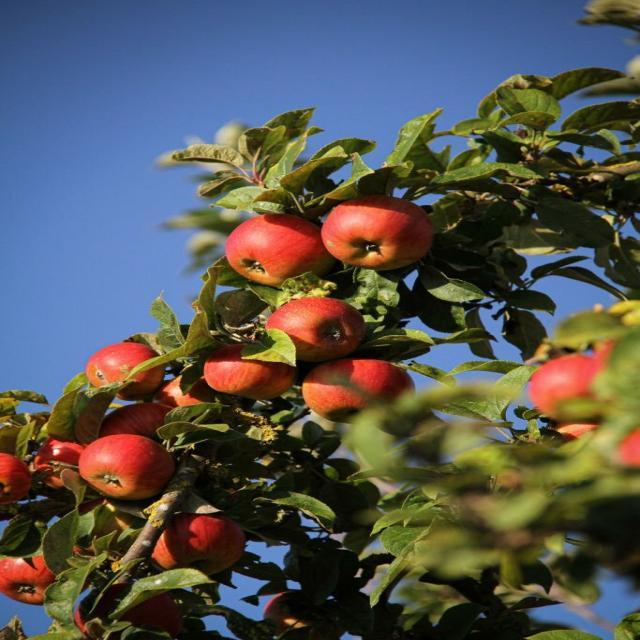Red Apple: (328, 198, 438, 270), (228, 214, 334, 282), (302, 362, 407, 418), (81, 586, 181, 640), (263, 295, 355, 350), (84, 438, 175, 491), (159, 513, 244, 568), (1, 545, 81, 601), (76, 498, 145, 562), (207, 348, 294, 397), (533, 359, 604, 419), (269, 590, 334, 640), (88, 346, 160, 390), (97, 405, 179, 438), (37, 437, 84, 493), (157, 377, 213, 419), (1, 455, 38, 505), (552, 421, 603, 442), (596, 325, 623, 359), (617, 429, 640, 460)
